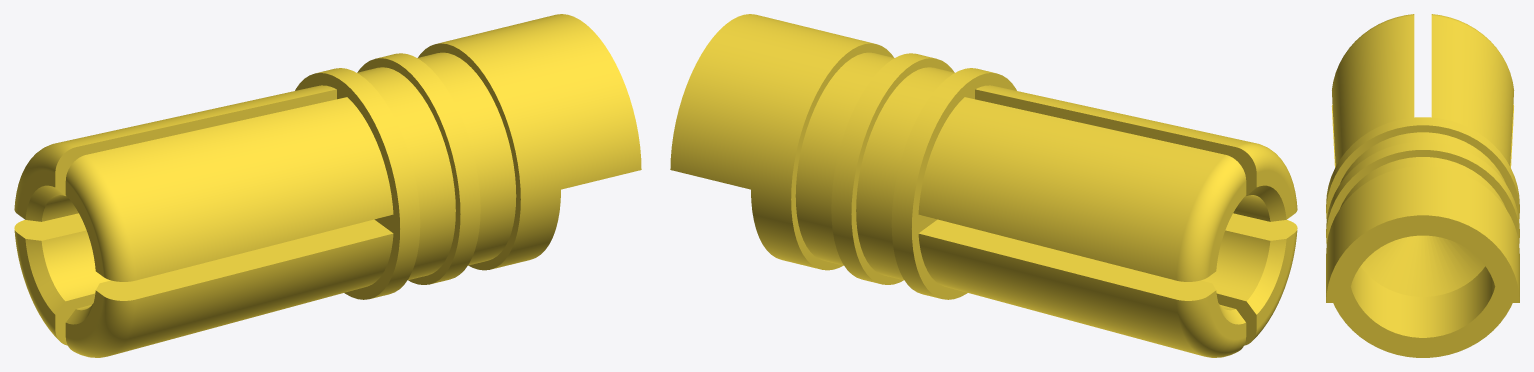
The model's file is REV_21_1652_P12_1__REV_21_1652_P12_1.gltf.
3 views of the same model, side by side, from view 1: azimuth 30°, elevation 25°; view 2: azimuth 150°, elevation 25°; view 3: azimuth 270°, elevation 25° (orthographic). The views are drawn at different scales.
Parts seen in each view (by area): view 1: mesh87045, mesh87028, mesh87059, mesh87034, mesh87030, mesh87061, mesh87032, mesh87036, mesh87046, mesh87041, mesh87058, mesh87037 (+14 smaller); view 2: mesh87038, mesh87028, mesh87052, mesh87034, mesh87030, mesh87054, mesh87032, mesh87036, mesh87039, mesh87048, mesh87065, mesh87037 (+14 smaller); view 3: mesh87028, mesh87038, mesh87045, mesh87023, mesh87024, mesh87022, mesh87027, mesh87035, mesh87031, mesh87036, mesh87032, mesh87034 (+3 smaller).
Boxes of the visible parts, bbox=[...] form: mesh87045: bbox=[86, 97, 393, 280]; mesh87028: bbox=[437, 14, 641, 269]; mesh87059: bbox=[110, 233, 393, 355]; mesh87034: bbox=[357, 67, 455, 279]; mesh87030: bbox=[417, 52, 516, 265]; mesh87061: bbox=[96, 219, 393, 300]; mesh87032: bbox=[376, 53, 480, 283]; mesh87036: bbox=[316, 68, 420, 298]; mesh87046: bbox=[66, 155, 135, 281]; mesh87041: bbox=[55, 89, 336, 195]; mesh87058: bbox=[41, 230, 110, 301]; mesh87037: bbox=[295, 73, 399, 299]; mesh87038: bbox=[918, 97, 1225, 280]; mesh87028: bbox=[670, 14, 874, 269]; mesh87052: bbox=[918, 233, 1201, 355]; mesh87034: bbox=[856, 67, 954, 279]; mesh87030: bbox=[795, 52, 894, 265]; mesh87054: bbox=[918, 219, 1215, 300]; mesh87032: bbox=[831, 53, 935, 283]; mesh87036: bbox=[891, 68, 995, 298]; mesh87039: bbox=[1176, 155, 1246, 281]; mesh87048: bbox=[975, 89, 1256, 195]; mesh87065: bbox=[1201, 230, 1270, 301]; mesh87037: bbox=[912, 73, 1016, 299]; mesh87028: bbox=[1326, 166, 1519, 302]; mesh87038: bbox=[1431, 16, 1513, 166]; mesh87045: bbox=[1332, 16, 1414, 166]; mesh87023: bbox=[1350, 266, 1495, 337]; mesh87024: bbox=[1326, 215, 1519, 302]; mesh87022: bbox=[1360, 235, 1485, 296]; mesh87027: bbox=[1333, 287, 1512, 357]; mesh87035: bbox=[1326, 125, 1519, 218]; mesh87031: bbox=[1326, 150, 1519, 243]; mesh87036: bbox=[1326, 117, 1519, 212]; mesh87032: bbox=[1326, 141, 1519, 236]; mesh87034: bbox=[1340, 132, 1505, 183].
Bounding box in the file's own units: 0.013 × 0.00499 × 0.005.
